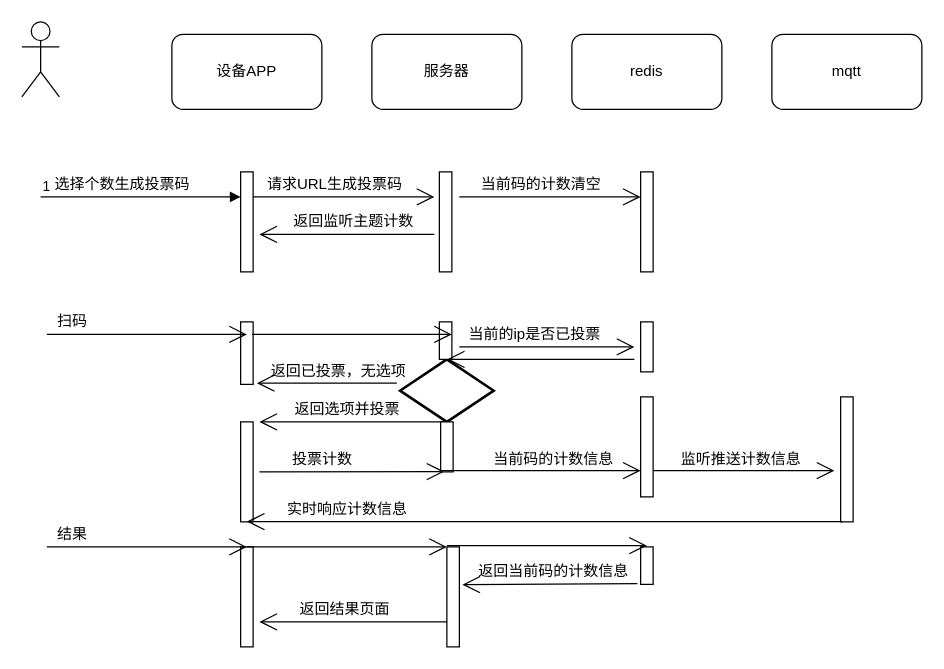
The diagram is 944 pixels wide and 669 high, and some of its shapes have lost their labels. The shapes that lost their labels are listed below. From the top down, each one's centre as x and y in pixels, then its label:
the point at 40,59: Actor
the point at 446,390: 是否返回
